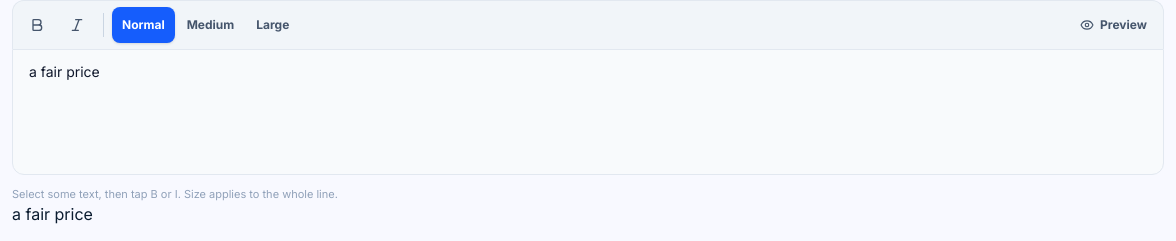
Test case: FormattedTextarea › bolds the selected words, not the whole box
The width and height of the screenshot is (1176, 241).
What coordinates should you click on to do the following:
click the button named "bold"
I would click on:
 (37, 25)
Its box is 19,7 -> 55,43.
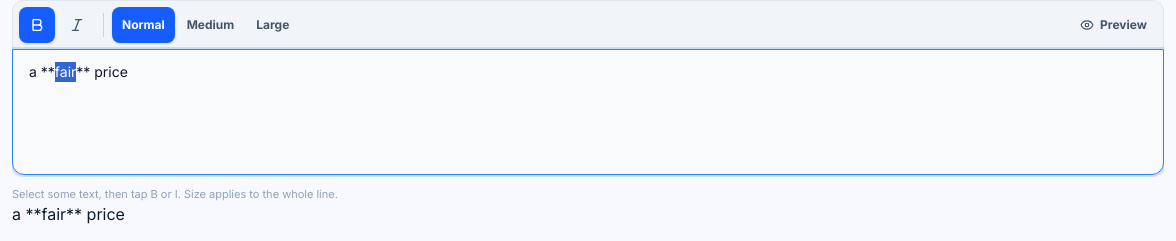
Expected: the text with test id "value" reads "a **fair** price", 12,204 -> 125,224
